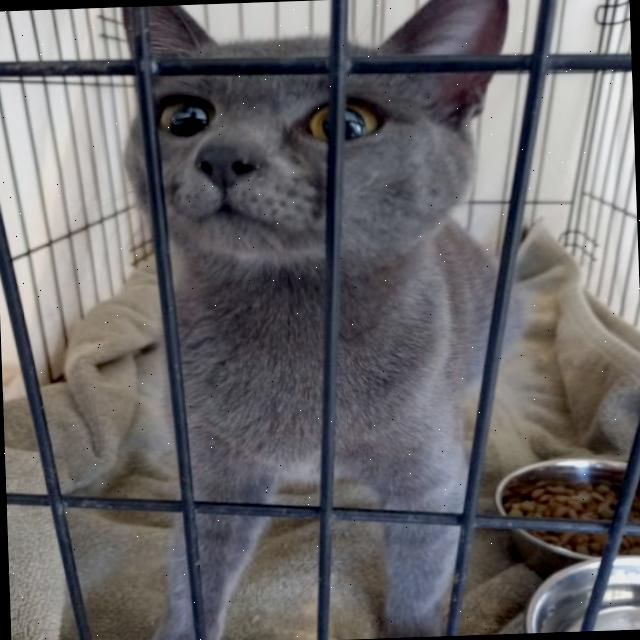russian_blue_cat: (108, 0, 548, 292)
